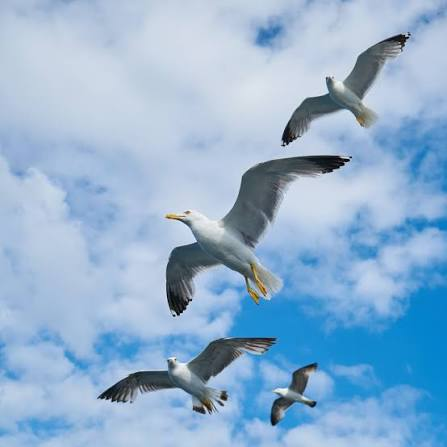burung: (158, 154, 351, 320), (87, 332, 278, 431), (278, 27, 419, 151), (265, 357, 320, 422)
